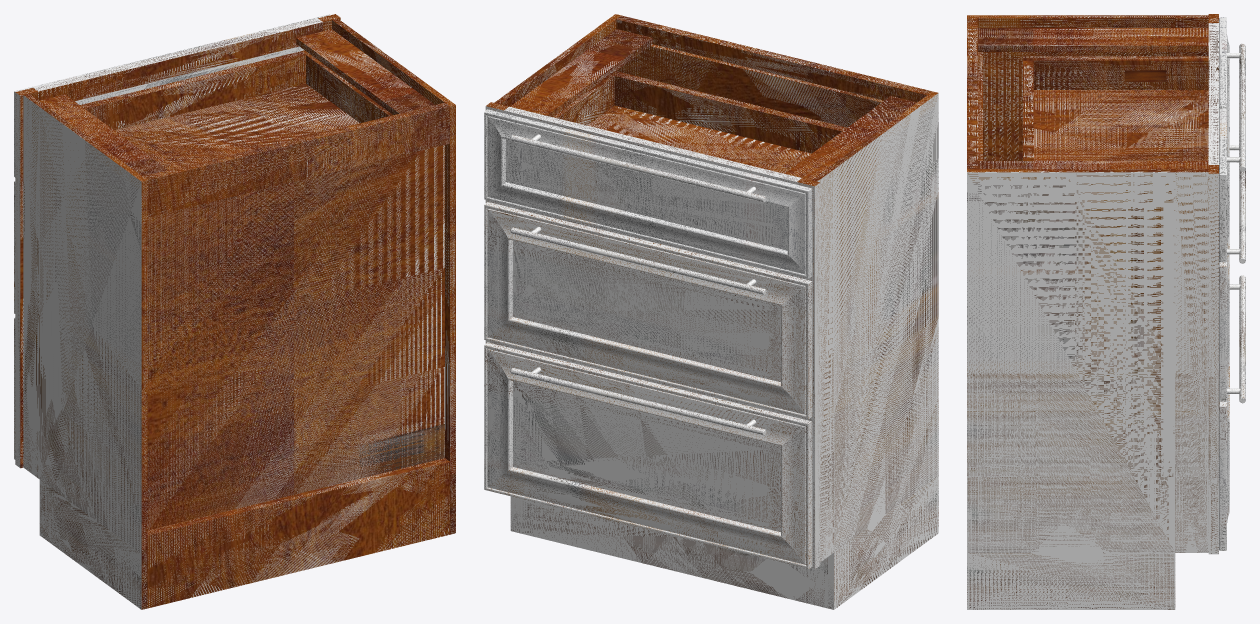
The picture shows the model from 3 angles, left to right: view 1: azimuth 30°, elevation 25°; view 2: azimuth 150°, elevation 25°; view 3: azimuth 270°, elevation 25°; orthographic projection. The views are drawn at different scales.
Visible parts, largest first — view 1: mesh4_mesh4-geometry, mesh7_mesh7-geometry, mesh12_mesh12-geometry, mesh3_mesh3-geometry, mesh19_mesh19-geometry, mesh17_mesh17-geometry, mesh6_mesh6-geometry, mesh5_mesh5-geometry, mesh8_mesh8-geometry, mesh10_mesh10-geometry, mesh14_mesh14-geometry, mesh2_mesh2-geometry (+5 smaller); view 2: mesh7_mesh7-geometry, mesh25_mesh25-geometry, mesh28_mesh28-geometry, mesh27_mesh27-geometry, mesh13_mesh13-geometry, mesh38_mesh38-geometry, mesh4_mesh4-geometry, mesh17_mesh17-geometry, mesh41_mesh41-geometry, mesh8_mesh8-geometry, mesh3_mesh3-geometry, mesh30_mesh30-geometry (+21 smaller); view 3: mesh10_mesh10-geometry, mesh9_mesh9-geometry, mesh19_mesh19-geometry, mesh11_mesh11-geometry, mesh7_mesh7-geometry, mesh16_mesh16-geometry, mesh15_mesh15-geometry, mesh2_mesh2-geometry, mesh33_mesh33-geometry, mesh14_mesh14-geometry, mesh3_mesh3-geometry, mesh5_mesh5-geometry (+10 smaller).
Part boxes in pixels (bbox=[...]): mesh4_mesh4-geometry: bbox=[147, 145, 444, 530]; mesh7_mesh7-geometry: bbox=[39, 105, 147, 553]; mesh12_mesh12-geometry: bbox=[147, 458, 449, 608]; mesh3_mesh3-geometry: bbox=[142, 102, 449, 217]; mesh19_mesh19-geometry: bbox=[114, 83, 359, 169]; mesh17_mesh17-geometry: bbox=[80, 51, 305, 130]; mesh6_mesh6-geometry: bbox=[23, 93, 44, 478]; mesh5_mesh5-geometry: bbox=[33, 18, 322, 101]; mesh8_mesh8-geometry: bbox=[39, 480, 147, 609]; mesh10_mesh10-geometry: bbox=[348, 30, 455, 478]; mesh14_mesh14-geometry: bbox=[296, 29, 434, 114]; mesh2_mesh2-geometry: bbox=[15, 14, 340, 468]; mesh7_mesh7-geometry: bbox=[828, 91, 938, 551]; mesh25_mesh25-geometry: bbox=[529, 251, 766, 519]; mesh28_mesh28-geometry: bbox=[526, 312, 766, 558]; mesh27_mesh27-geometry: bbox=[526, 212, 768, 449]; mesh13_mesh13-geometry: bbox=[516, 498, 827, 608]; mesh38_mesh38-geometry: bbox=[523, 144, 772, 243]; mesh4_mesh4-geometry: bbox=[616, 44, 883, 127]; mesh17_mesh17-geometry: bbox=[614, 72, 846, 153]; mesh41_mesh41-geometry: bbox=[520, 183, 772, 269]; mesh8_mesh8-geometry: bbox=[828, 476, 938, 609]; mesh3_mesh3-geometry: bbox=[616, 15, 931, 102]; mesh30_mesh30-geometry: bbox=[767, 309, 812, 531]; mesh10_mesh10-geometry: bbox=[967, 169, 1175, 552]; mesh9_mesh9-geometry: bbox=[1175, 169, 1208, 552]; mesh19_mesh19-geometry: bbox=[1033, 90, 1208, 160]; mesh11_mesh11-geometry: bbox=[967, 553, 1175, 609]; mesh7_mesh7-geometry: bbox=[967, 15, 1175, 160]; mesh16_mesh16-geometry: bbox=[1023, 56, 1208, 89]; mesh15_mesh15-geometry: bbox=[977, 28, 1208, 51]; mesh2_mesh2-geometry: bbox=[1208, 14, 1218, 554]; mesh33_mesh33-geometry: bbox=[1239, 43, 1245, 403]; mesh14_mesh14-geometry: bbox=[977, 161, 1208, 169]; mesh3_mesh3-geometry: bbox=[967, 18, 977, 169]; mesh5_mesh5-geometry: bbox=[1208, 23, 1218, 164].
Bounding box in the file's own units: 0.5611 × 0.7169 × 0.4138.
